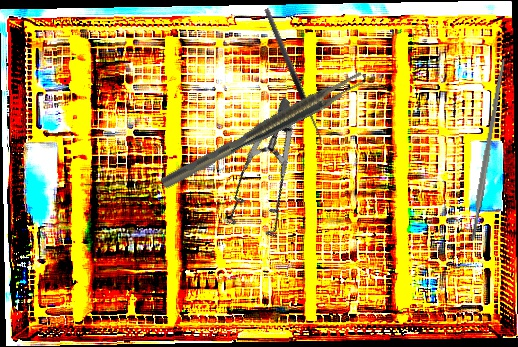Hook Surgical: (263, 5, 332, 144)
Scalpel Handle: (467, 57, 508, 243)
Speculum: (191, 96, 351, 255)
Tissue Forceps: (157, 69, 368, 190)
